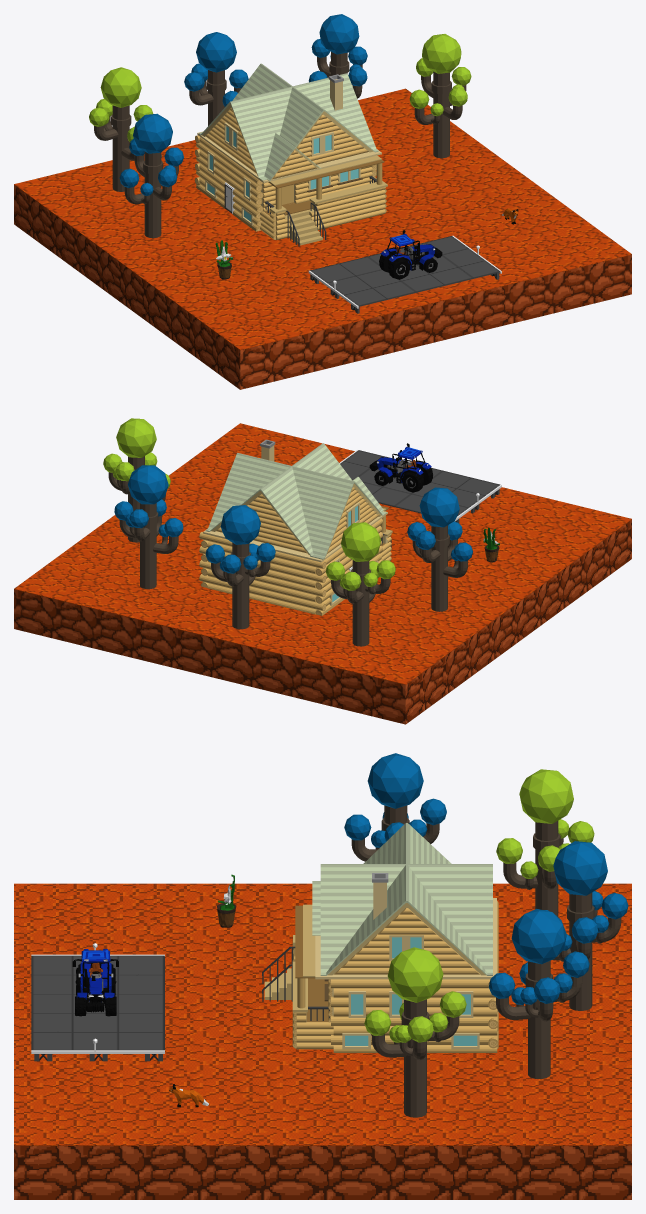
The picture shows the model from 3 angles, top to bottom: view 1: azimuth 30°, elevation 25°; view 2: azimuth 150°, elevation 25°; view 3: azimuth 270°, elevation 25°; orthographic projection. The views are drawn at different scales.
Parts seen in each view (by area): view 1: Cube.001, Cube.1516, VEHICLES_TRACTOR; view 2: Cube.001, Cube.1516, VEHICLES_TRACTOR; view 3: Cube.001, Cube.1516, VEHICLES_TRACTOR.
Part boxes in pixels (left/top/right/bottom): Cube.001: left=14, top=14, right=631, bottom=389; Cube.1516: left=195, top=63, right=387, bottom=246; VEHICLES_TRACTOR: left=379, top=230, right=442, bottom=279; Cube.001: left=14, top=418, right=631, bottom=724; Cube.1516: left=199, top=439, right=392, bottom=615; VEHICLES_TRACTOR: left=369, top=443, right=432, bottom=492; Cube.001: left=14, top=753, right=631, bottom=1199; Cube.1516: left=262, top=823, right=498, bottom=1052; VEHICLES_TRACTOR: left=72, top=949, right=118, bottom=1016.
Size of the model in its own units: 4000 by 1672 by 4000.
36 materials, 5 textured.
